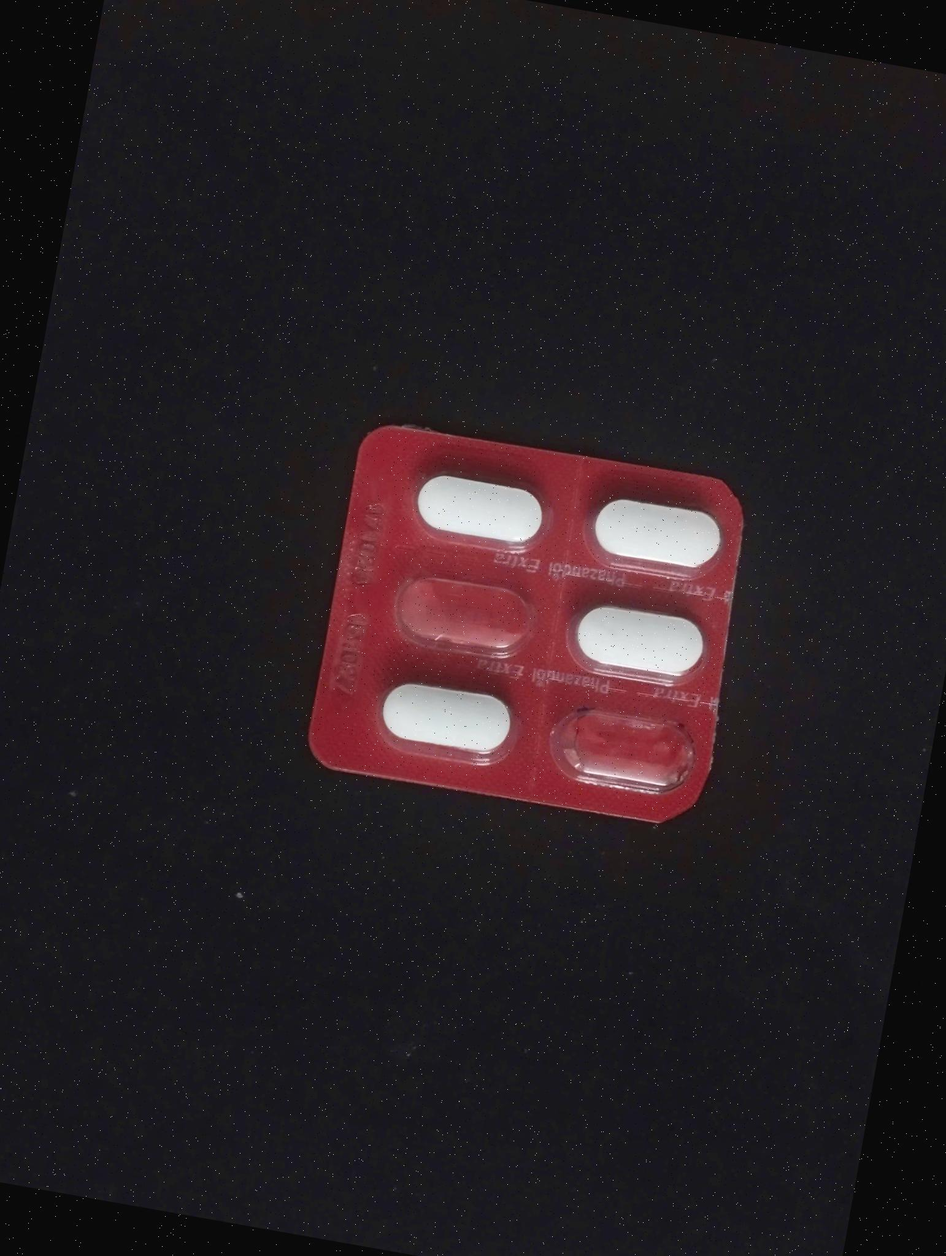Empty: (540, 689, 706, 800), (385, 560, 537, 664)
Full: (564, 589, 719, 689), (375, 671, 523, 766), (404, 461, 553, 555), (584, 486, 730, 578)
